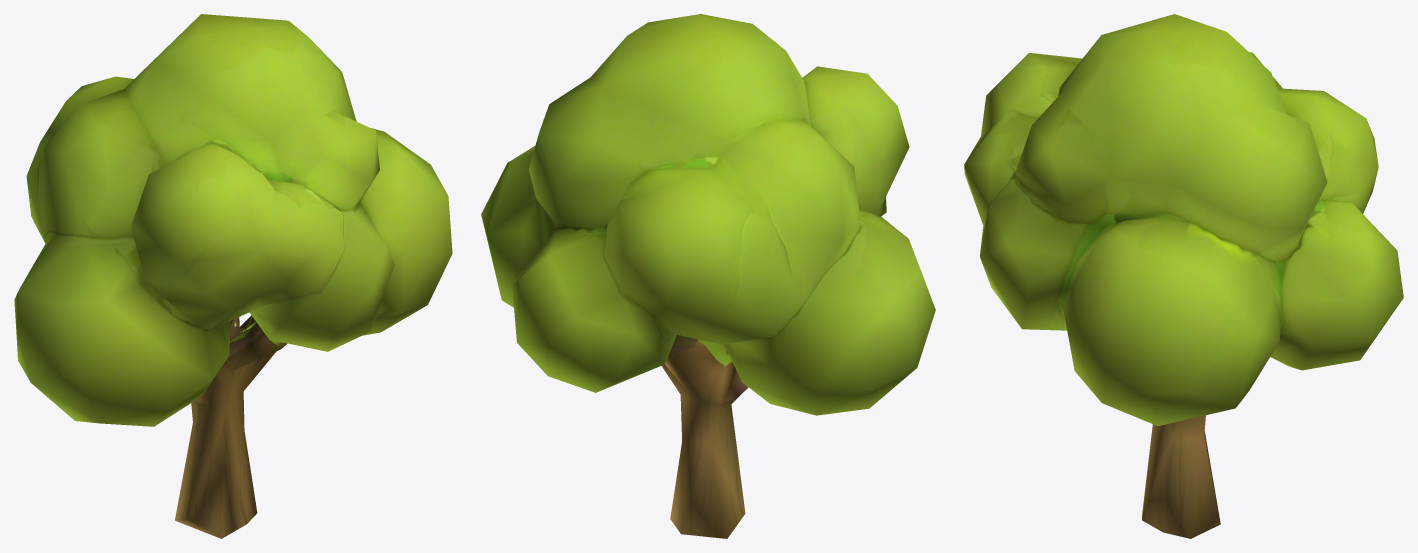
Rendered from arvore2_otimizada.glb.
3 renders of one model, left to right at view 1: azimuth 30°, elevation 25°; view 2: azimuth 150°, elevation 25°; view 3: azimuth 270°, elevation 25°, orthographic. The views are drawn at different scales.
Parts seen in each view (by area): view 1: Mesh1; view 2: Mesh1; view 3: Mesh1.
Boxes of the visible parts, bbox=[...] form: Mesh1: bbox=[14, 14, 452, 538]; Mesh1: bbox=[481, 14, 935, 538]; Mesh1: bbox=[964, 14, 1403, 538].
Bounding box in the file's own units: 1.77 × 2 × 1.58.
1 material, 1 textured.
